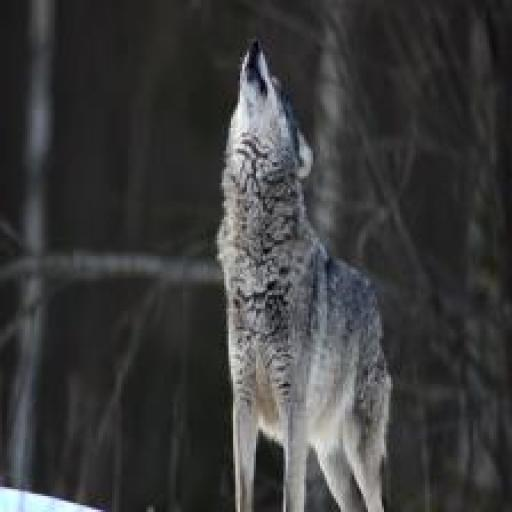wolf: (204, 16, 441, 512)
